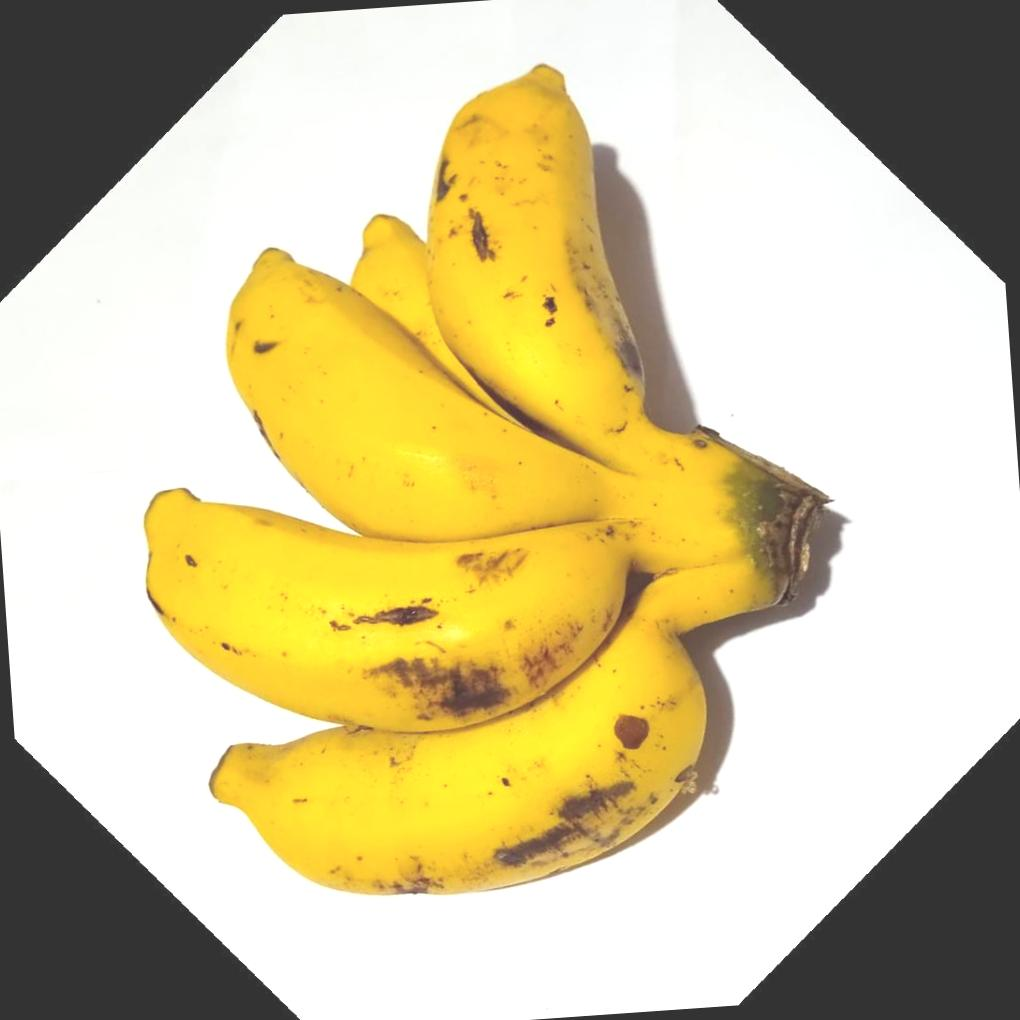Banana Ripe: (102, 31, 884, 968), (198, 638, 802, 925), (123, 439, 661, 756), (192, 202, 617, 571), (415, 47, 702, 518)
